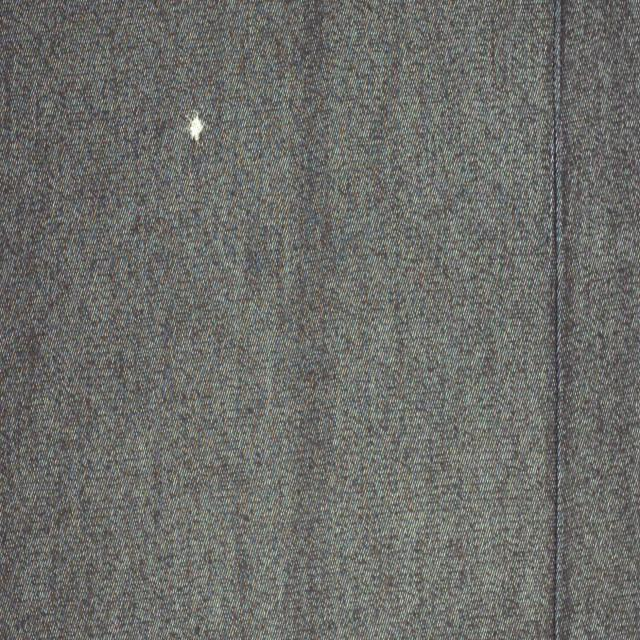Hole: (545, 0, 565, 640)
Knot: (187, 111, 205, 142)
